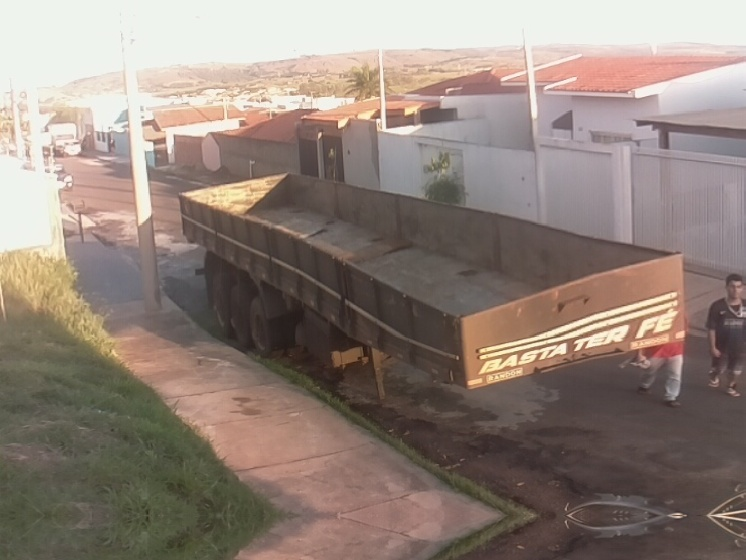person: (707, 275, 746, 400), (632, 338, 687, 409)
